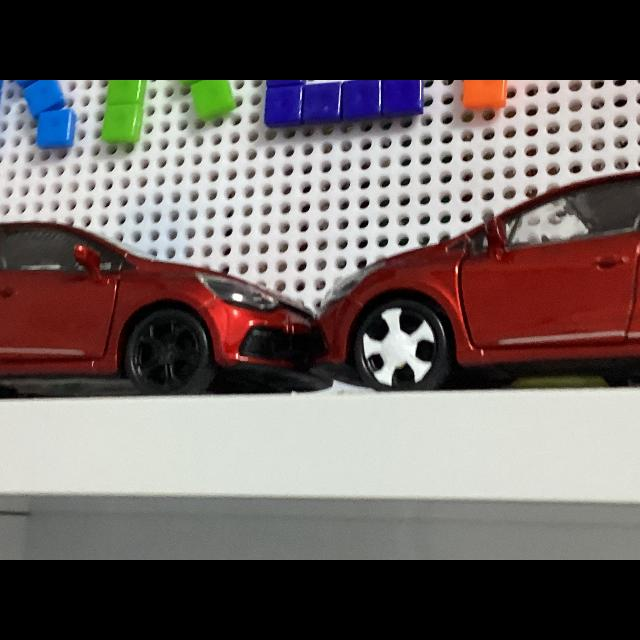Dogru_Jant: (132, 317, 198, 387)
Yanlis_Jant: (363, 309, 435, 387)
